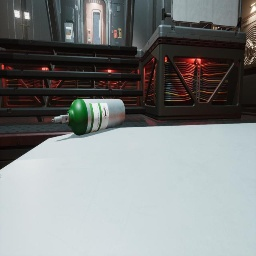0: (52, 99, 125, 136)
EmergencyPhone ,: (117, 25, 121, 39)
FireAlarm ,: (114, 30, 117, 38)
SafetySwitchPanel ,: (64, 22, 74, 42)
